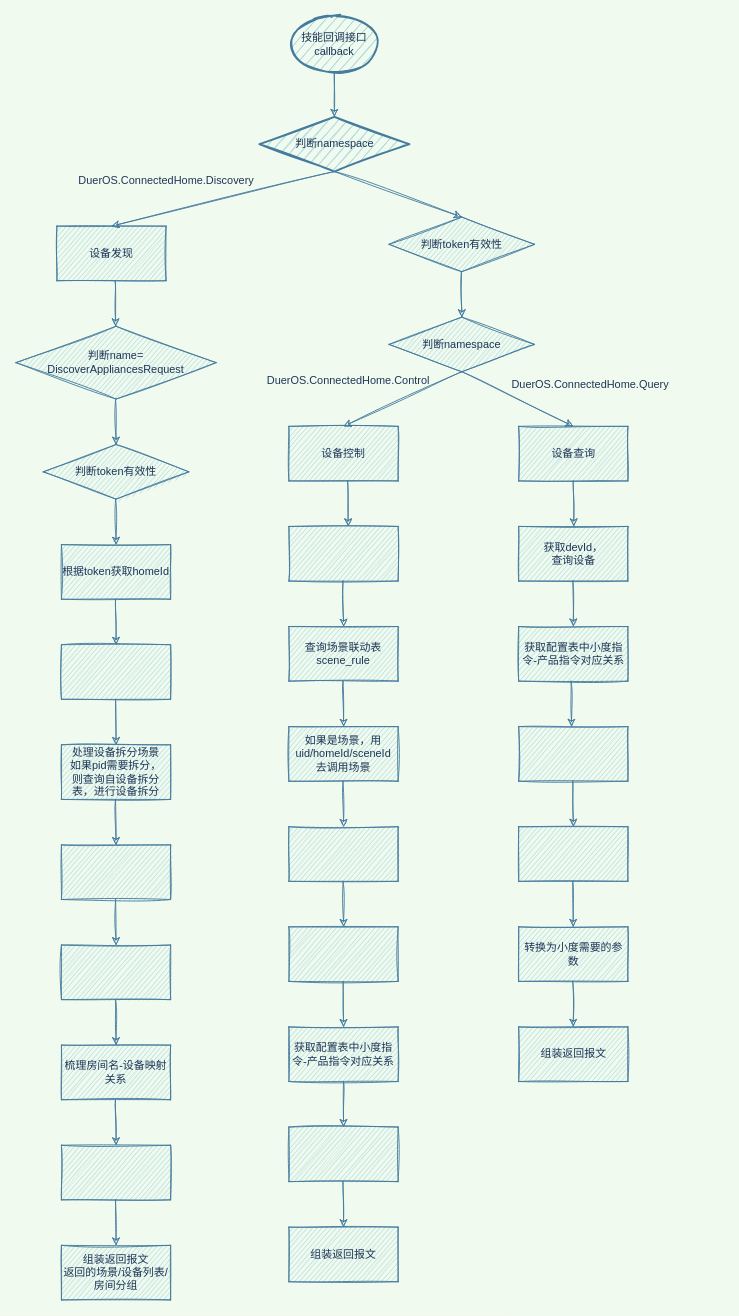
This 739x1316 diagram has some shape labels left out. Each missing label, with the centre of its shape:
attr参数处理: point (343, 953)
从queryConfigs获取产品设备属性: point (573, 753)
从设备状态表查询设备状态: point (573, 853)
在voice_control_config查询每个设备支持的指令: point (116, 972)
如果是设备， 先处理设备拆分情况，如果是自设备，把devId改为主设备的: point (343, 853)
查询家庭下所有设备: point (116, 671)
查询设备与房间的映射关系: point (116, 872)
获取devId: point (343, 553)
转换控制指令， 下发指令到融合平台: point (343, 1154)
通过设备品类获取设备对应的小度类型: point (116, 1172)
